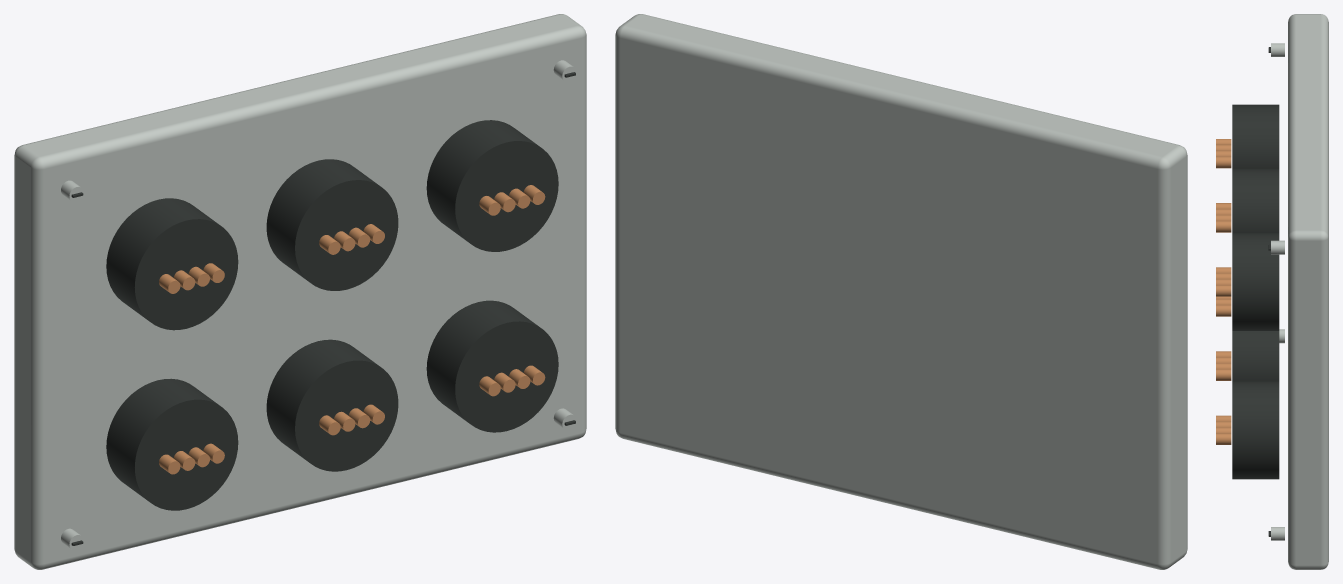
The model's file is spacecraft-thermal-test-chamber-electrical-feedthrough-f2f062fc__32039.glb.
3 views of the same model, side by side, from view 1: azimuth 30°, elevation 25°; view 2: azimuth 150°, elevation 25°; view 3: azimuth 270°, elevation 25° (orthographic). The views are drawn at different scales.
Visible parts, largest first — view 1: electrical-feedthrough-panel; view 2: electrical-feedthrough-panel; view 3: electrical-feedthrough-panel.
Boxes of the visible parts, x1,y1,x2,y2 form: electrical-feedthrough-panel: (14,14,586,569); electrical-feedthrough-panel: (615,14,1187,569); electrical-feedthrough-panel: (1216,14,1328,569).
Bounding box in the file's own units: 0.45 × 0.32 × 0.0965.
